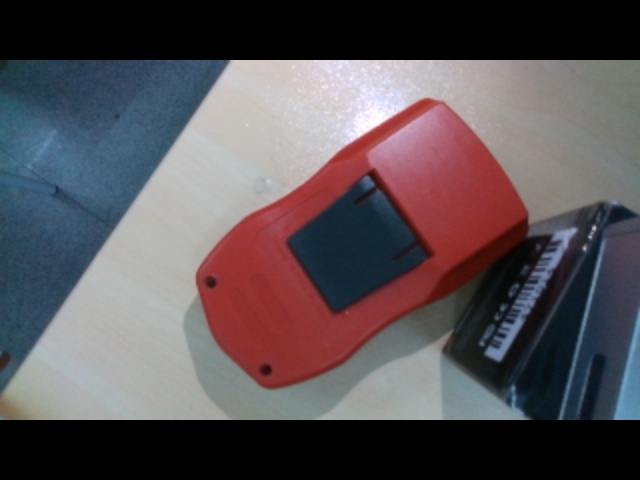Multimeter: (193, 97, 528, 391)
Screw holes: (256, 363, 275, 375), (205, 275, 218, 290)
